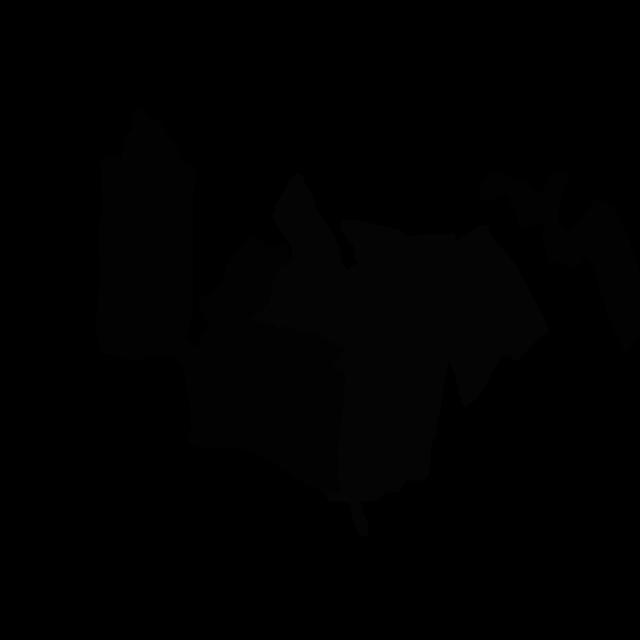cardboard: (478, 169, 640, 355), (175, 318, 345, 495), (95, 108, 197, 359), (199, 234, 290, 321)
soft_plastic: (331, 219, 456, 481), (250, 173, 361, 350), (449, 225, 550, 407), (324, 378, 409, 537)
